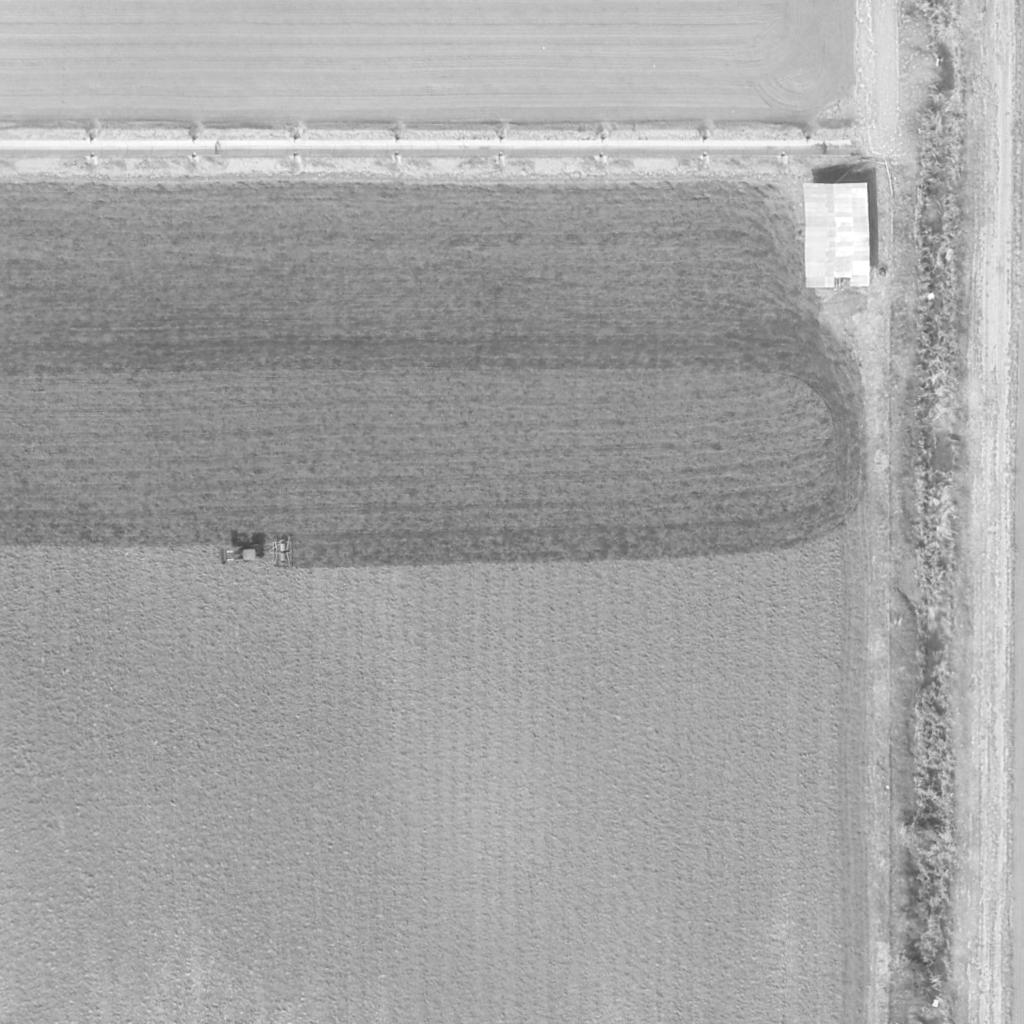vehicle: (217, 542, 263, 570)
